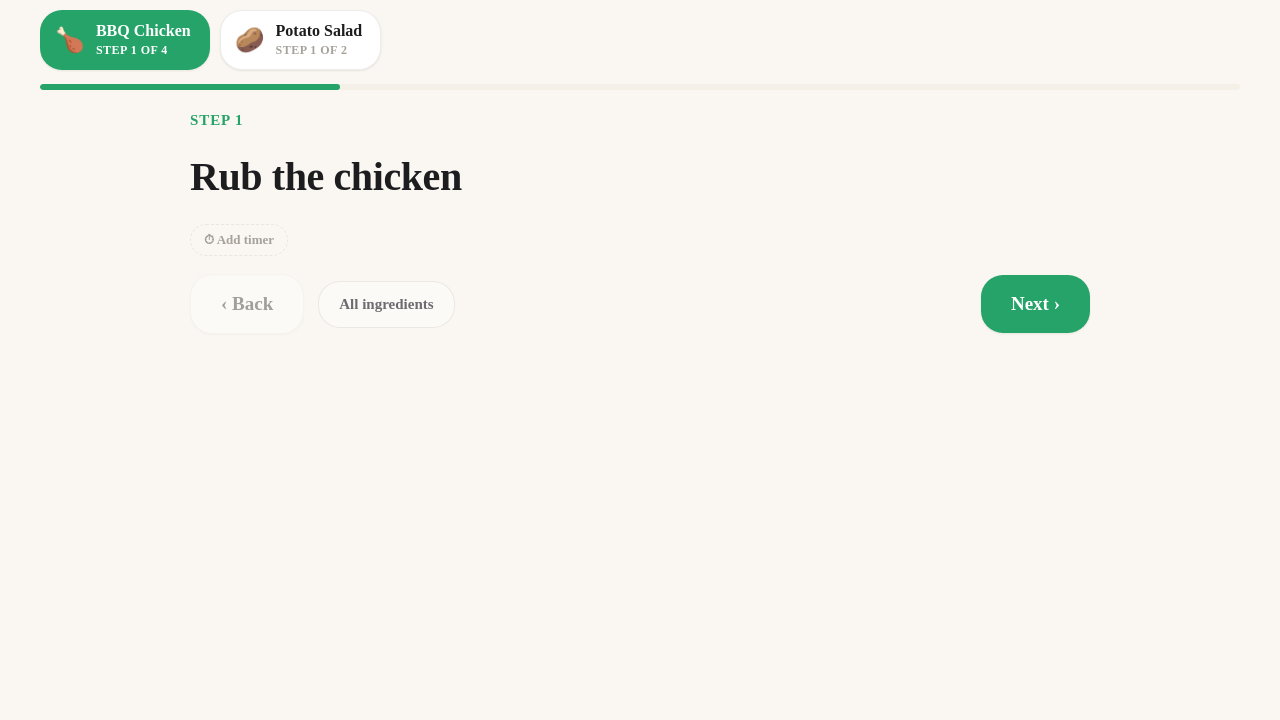
Test case: CookMode — plate timer controls still work › pauses and resumes a timer from another dish’s tab
Expected: the text "Rub the chicken" is shown, x1=190 y1=151 x2=462 y2=202
Step 1. Click the button "⏱ Add timer" → [239, 240], box x1=190 y1=224 x2=288 y2=256
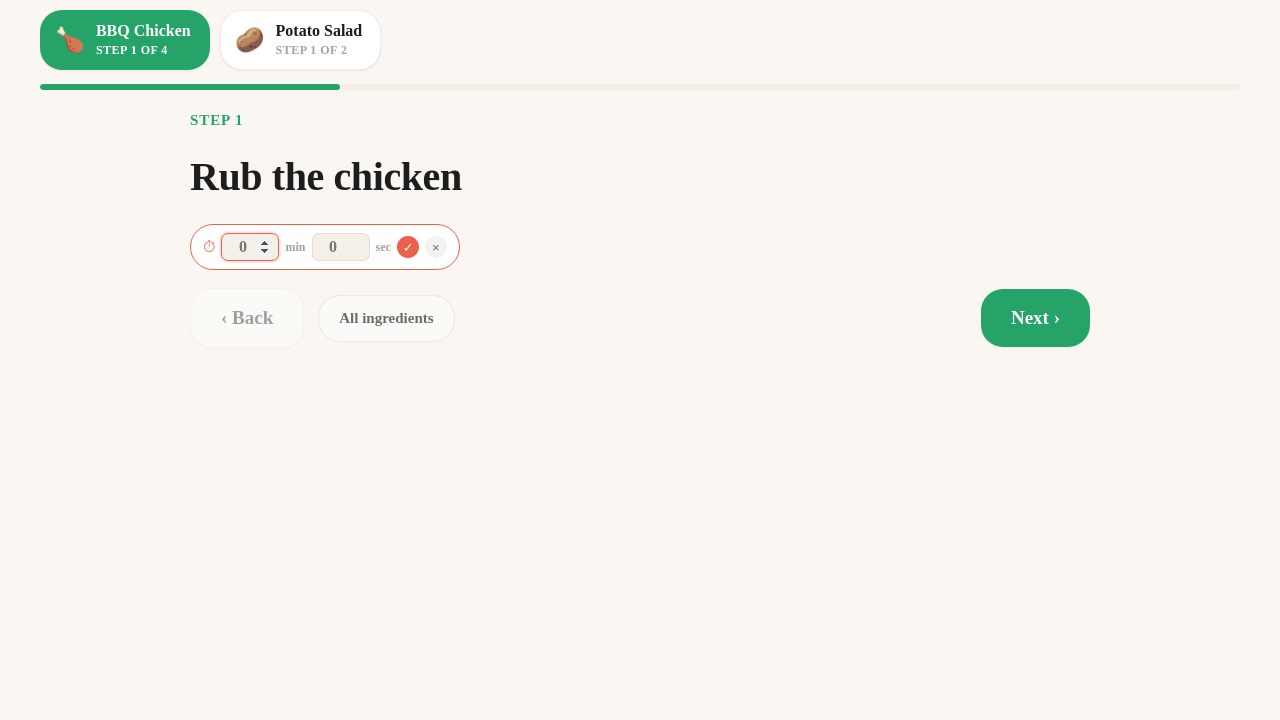
Step 2. Type "2" into the number field named "minutes" → [250, 247], box x1=222 y1=233 x2=280 y2=261
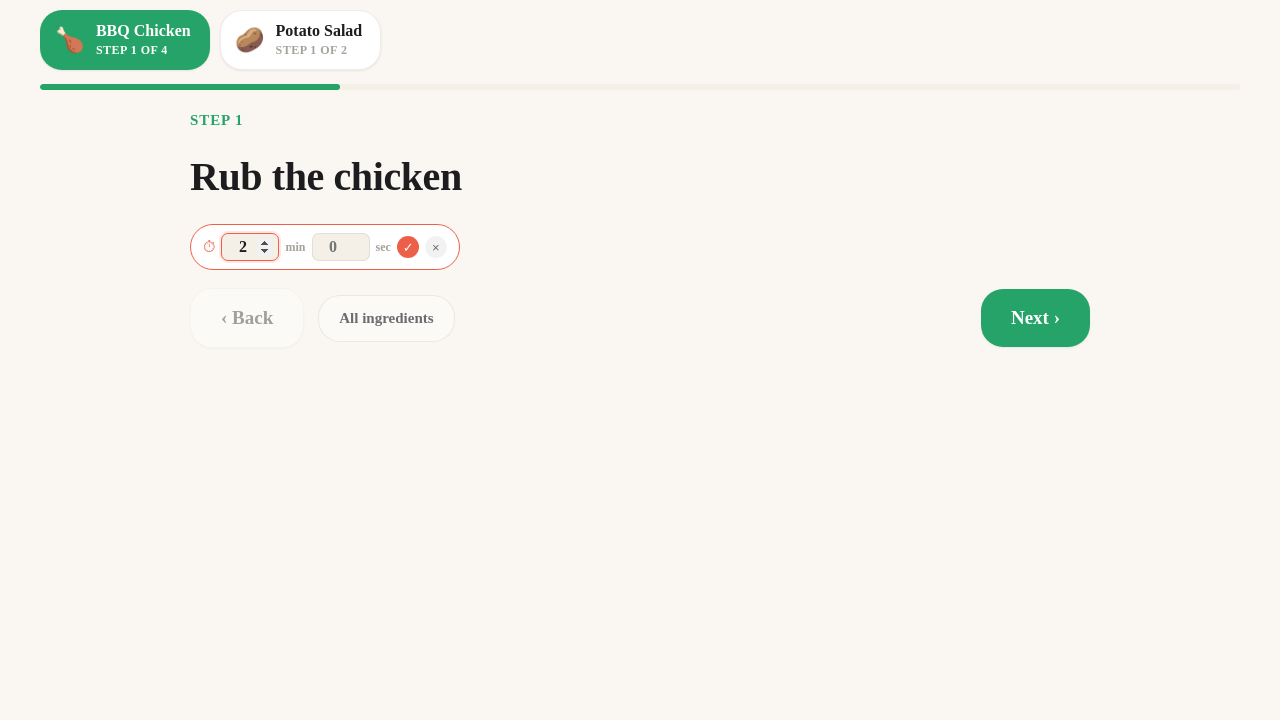
Step 3. Click the button named "start timer" → [408, 247], box x1=397 y1=236 x2=419 y2=258
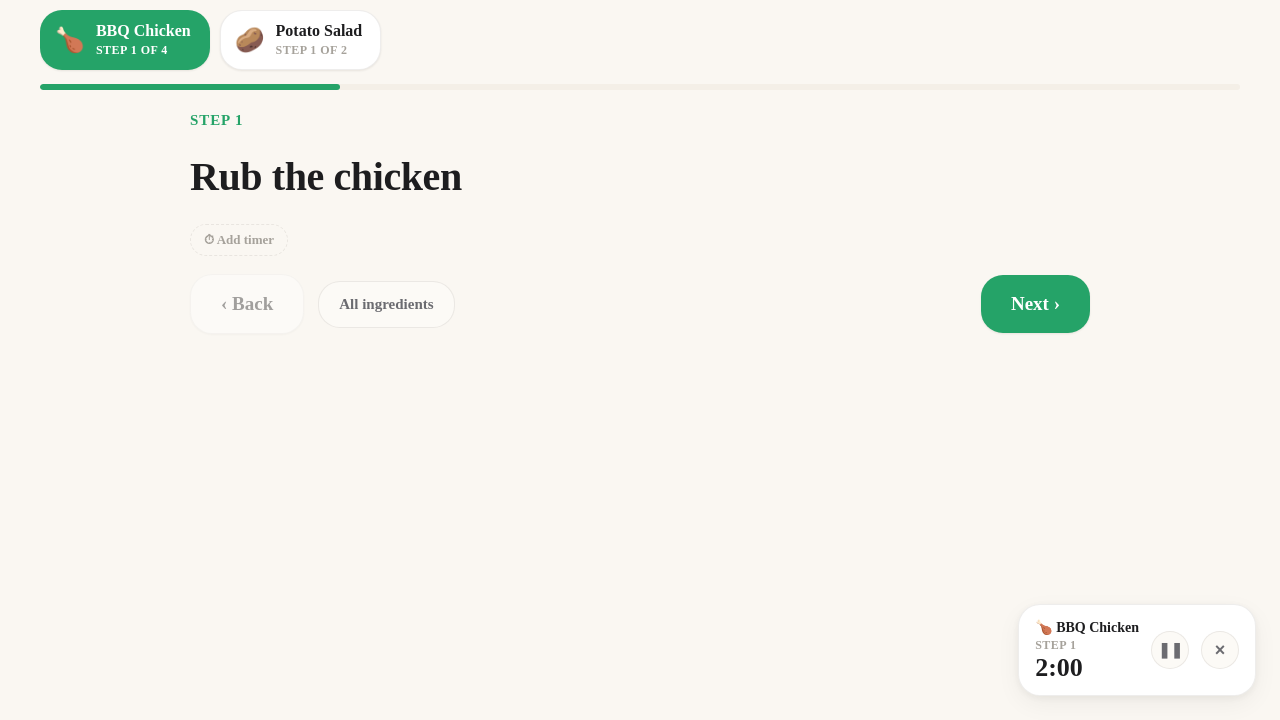
Step 4. Click the tab "🥔 Potato Salad Step 1 of 2" → [300, 40], box x1=220 y1=10 x2=381 y2=70
Wait 2000 ms
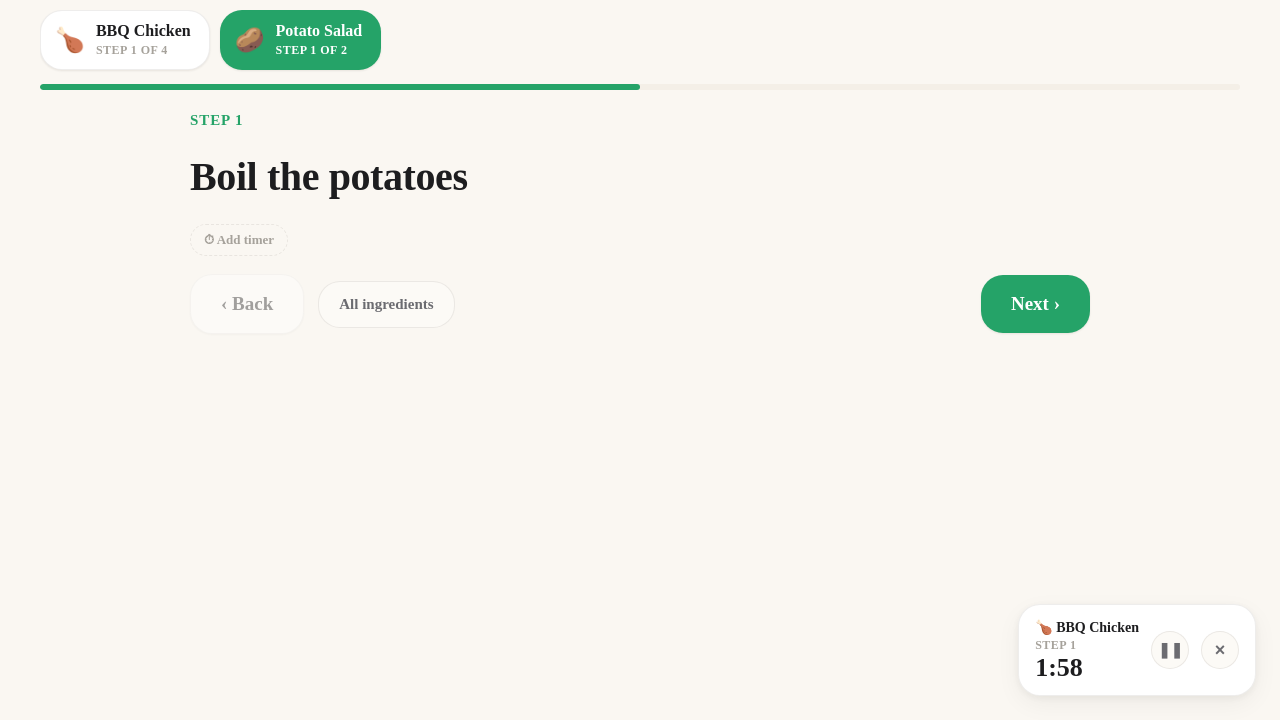
Expected: the message shows "1:58", x1=1035 y1=653 x2=1083 y2=682
Step 5. Click the button named "pause timer" → [1170, 650], box x1=1151 y1=631 x2=1189 y2=669
Wait 5000 ms
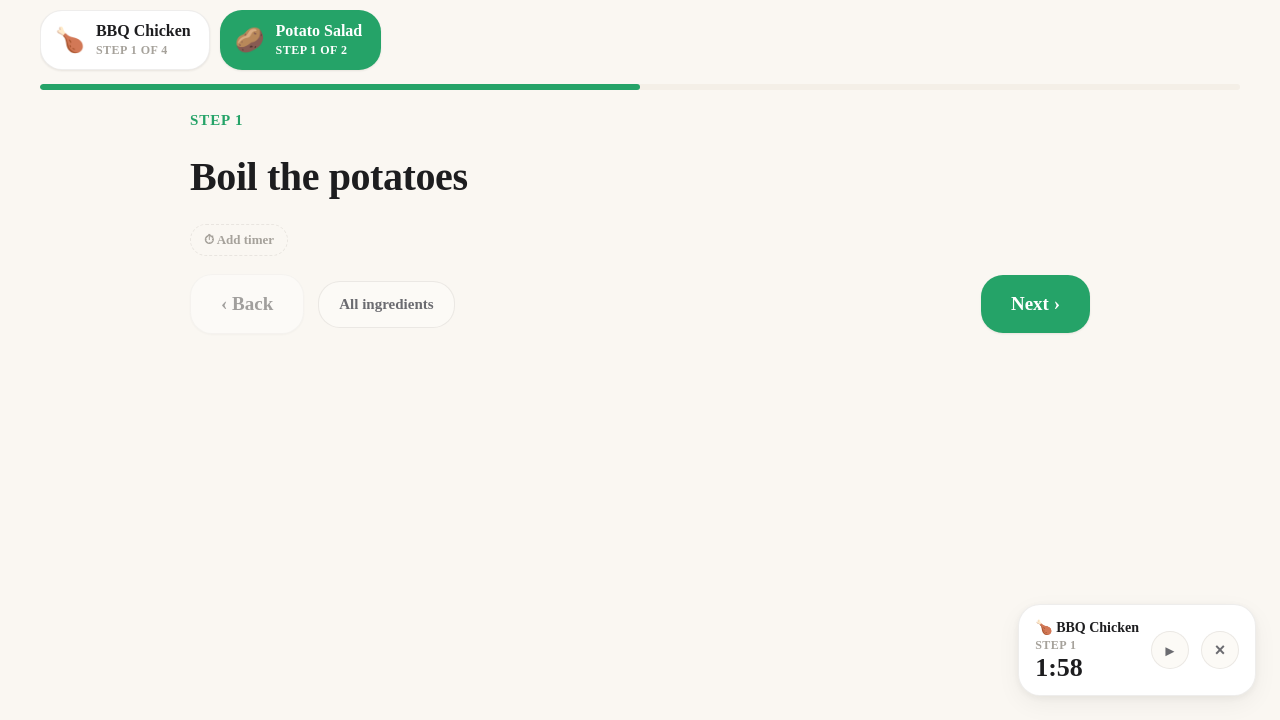
Expected: the message shows "1:58", x1=1035 y1=653 x2=1083 y2=682
Step 6. Click the button named "resume timer" → [1170, 650], box x1=1151 y1=631 x2=1189 y2=669
Wait 3000 ms
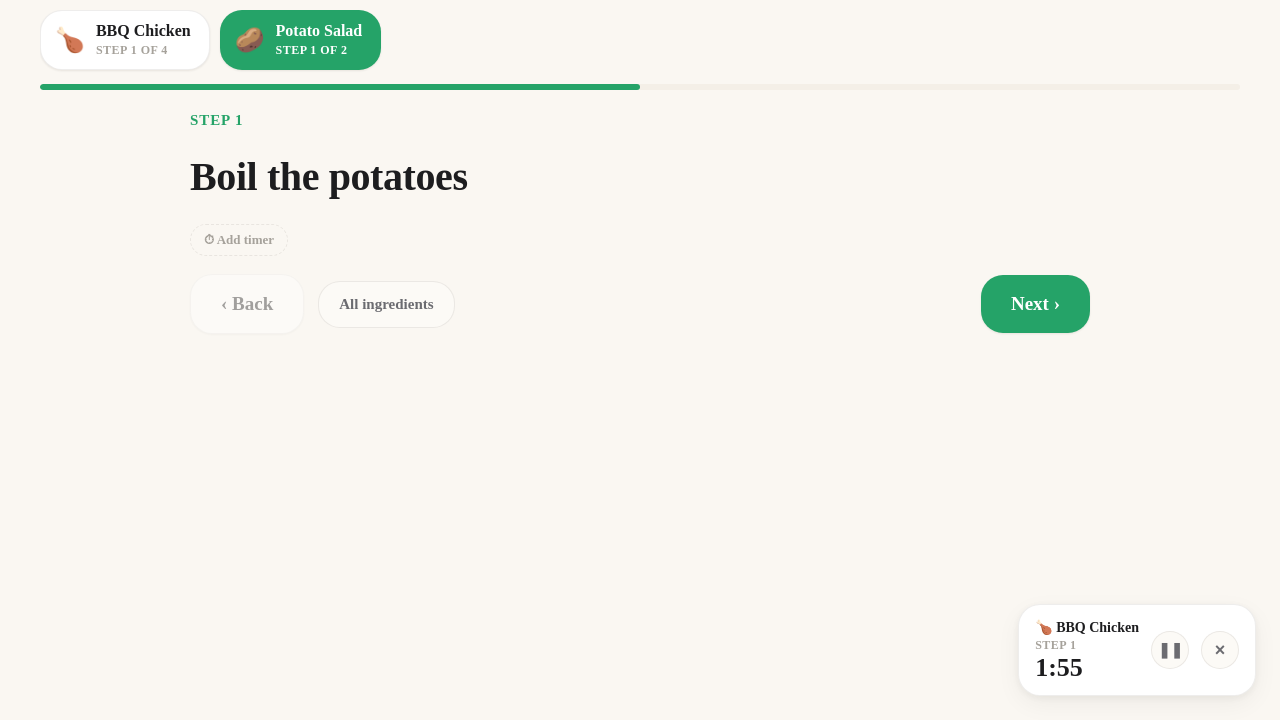
Expected: the message shows "1:55", x1=1035 y1=653 x2=1083 y2=682
